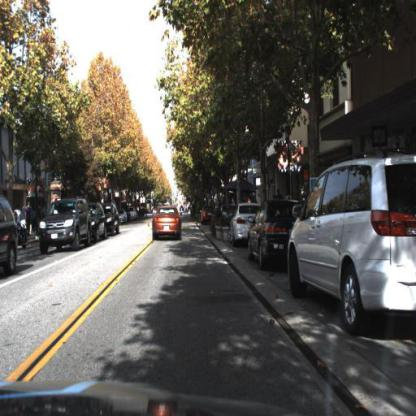car: (284, 148, 416, 338), (247, 198, 303, 270), (35, 197, 92, 255), (225, 197, 265, 249), (1, 192, 21, 280), (153, 205, 184, 243), (89, 201, 107, 241)
pedestrian: (277, 189, 282, 202)
